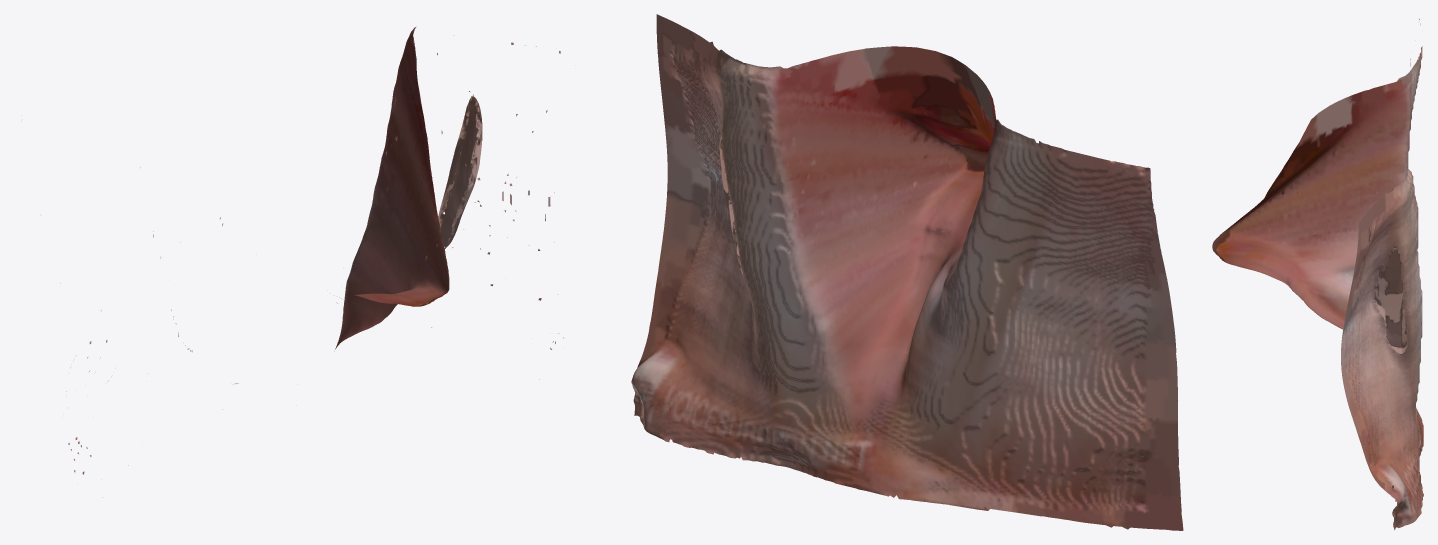
Rendered from lesion (12).gltf.
3 renders of one model, left to right at view 1: azimuth 30°, elevation 25°; view 2: azimuth 150°, elevation 25°; view 3: azimuth 270°, elevation 25°, orthographic. The views are drawn at different scales.
Size of the model in its own units: 0.00151 by 0.00106 by 0.000652.
